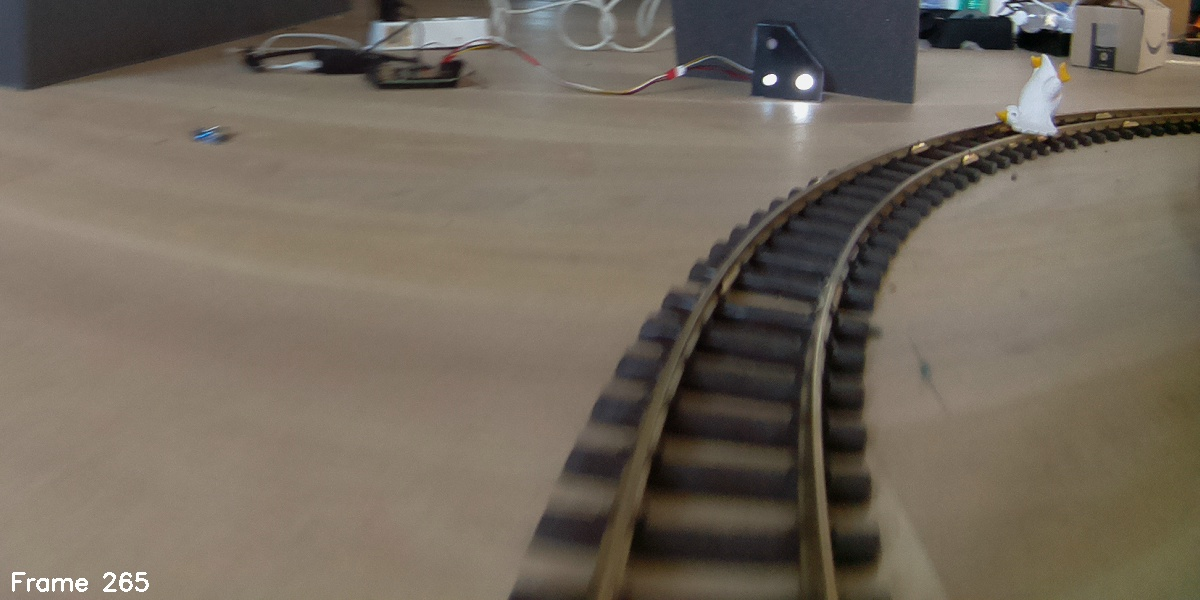Halt: (751, 21, 824, 105)
